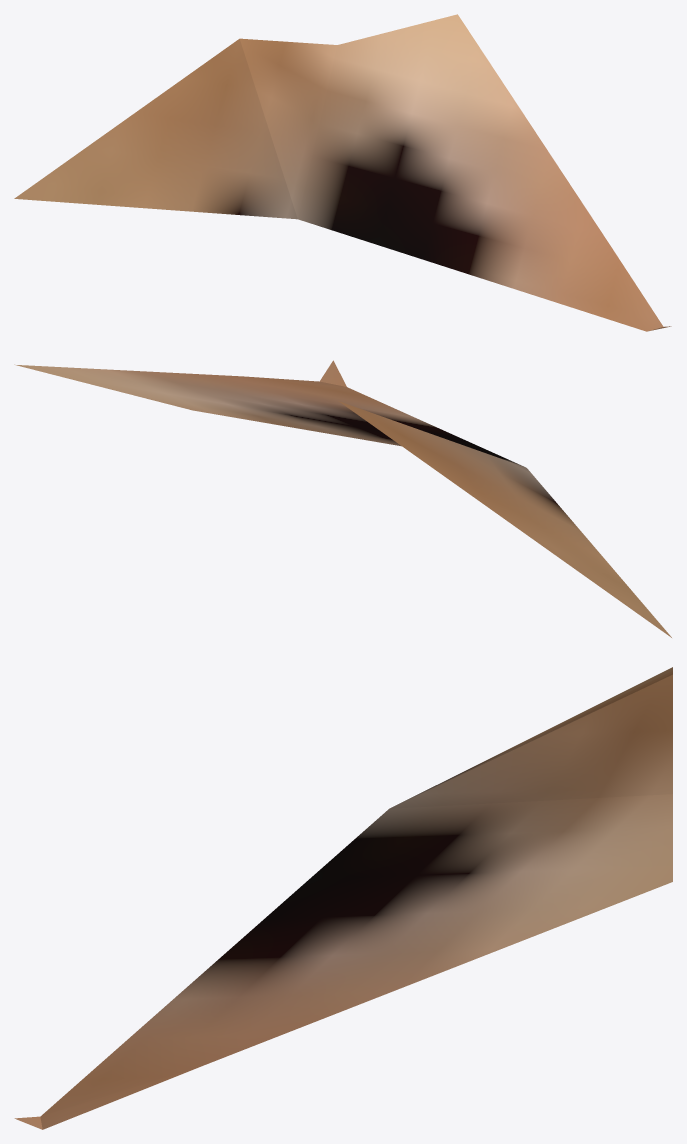
3 views of the same model, one above another, from view 1: azimuth 30°, elevation 25°; view 2: azimuth 150°, elevation 25°; view 3: azimuth 270°, elevation 25° (orthographic). The views are drawn at different scales.
Bounding box in the file's own units: 0.0433 × 0.0178 × 0.0364.
1 material, 1 textured.
